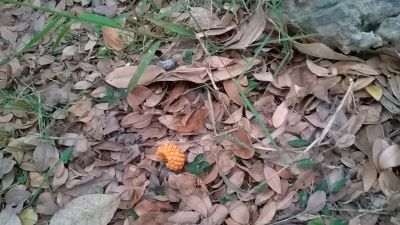eggs: (157, 143, 185, 171)
